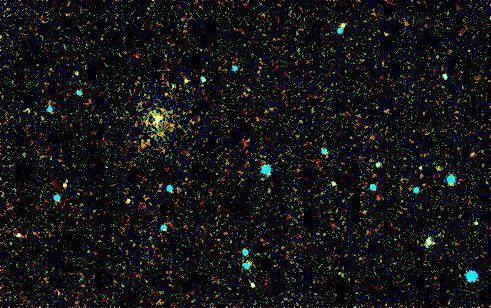star: (50, 171, 80, 201)
